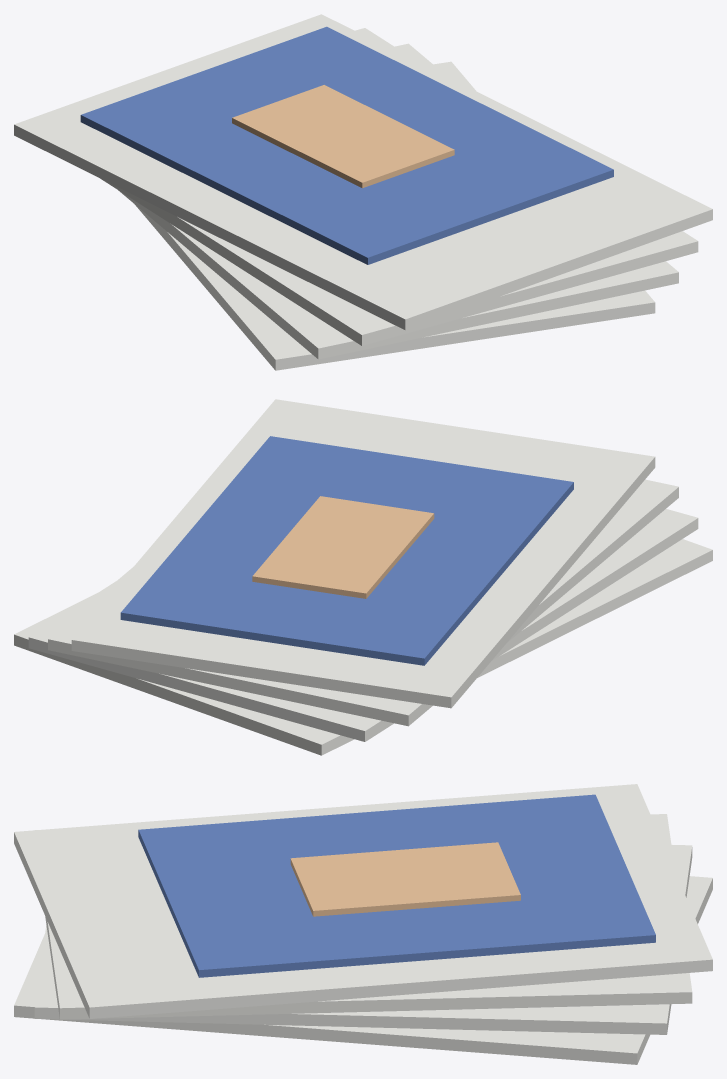
Rendered from couple_photos.glb.
3 renders of one model, top to bottom at view 1: azimuth 30°, elevation 25°; view 2: azimuth 150°, elevation 25°; view 3: azimuth 270°, elevation 25°, orthographic. The views are drawn at different scales.
Parts seen in each view (by area): view 1: photo_photo_border (×4), print_photo_print, print_photo_couple; view 2: photo_photo_border (×4), print_photo_print, print_photo_couple; view 3: photo_photo_border (×4), print_photo_print, print_photo_couple.
Boxes of the visible parts, x1=… form: photo_photo_border (×4): x1=14, y1=14, x2=712, y2=370; print_photo_print: x1=80, y1=26, x2=613, y2=264; print_photo_couple: x1=232, y1=85, x2=454, y2=188; photo_photo_border (×4): x1=14, y1=399, x2=712, y2=755; print_photo_print: x1=120, y1=436, x2=573, y2=665; print_photo_couple: x1=252, y1=496, x2=434, y2=598; photo_photo_border (×4): x1=14, y1=784, x2=712, y2=1064; print_photo_print: x1=138, y1=794, x2=655, y2=977; print_photo_couple: x1=290, y1=842, x2=520, y2=916.
Size of the model in its own units: 0.1252 by 0.02 by 0.1655.
